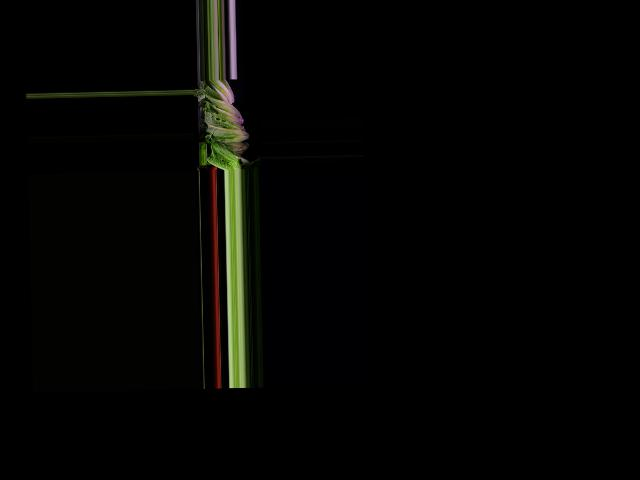lettuce: (206, 78, 235, 106)
